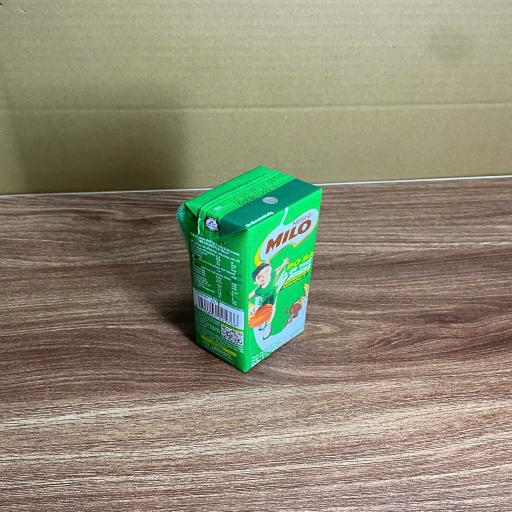milo: (181, 166, 323, 372)
